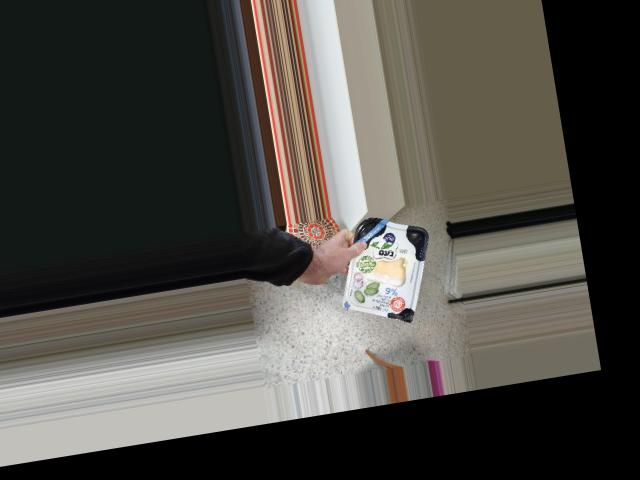cheese: (342, 222, 428, 320)
